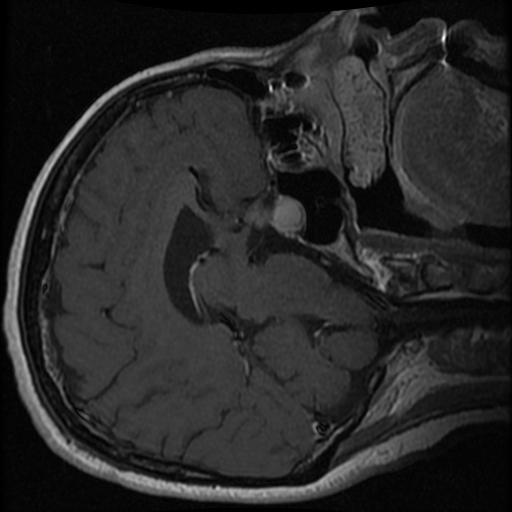pituitary tumour: (245, 197, 306, 231)
